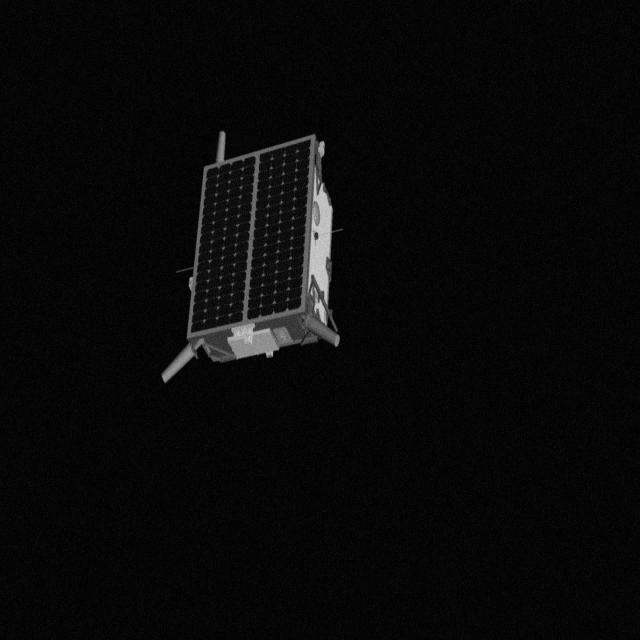satellite: (152, 124, 354, 396)
